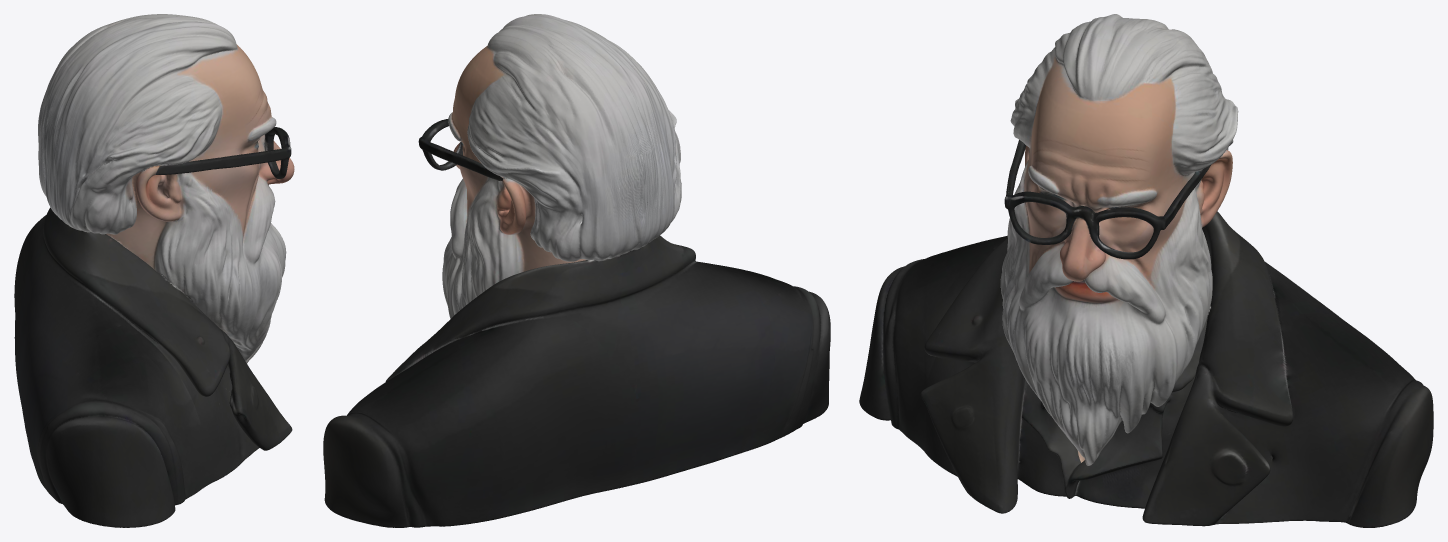
File: detailed_realistic_model_albusdumbledore_06.glb
3 renders of one model, left to right at view 1: azimuth 30°, elevation 25°; view 2: azimuth 150°, elevation 25°; view 3: azimuth 270°, elevation 25°, orthographic. The views are drawn at different scales.
Visible parts, largest first — view 1: tripo_node_ef23d51a-ea60-468d-8a79-ba1a73b600eb; view 2: tripo_node_ef23d51a-ea60-468d-8a79-ba1a73b600eb; view 3: tripo_node_ef23d51a-ea60-468d-8a79-ba1a73b600eb.
Boxes of the visible parts, x1,y1,x2,y2 form: tripo_node_ef23d51a-ea60-468d-8a79-ba1a73b600eb: (14, 14, 294, 527); tripo_node_ef23d51a-ea60-468d-8a79-ba1a73b600eb: (323, 14, 830, 527); tripo_node_ef23d51a-ea60-468d-8a79-ba1a73b600eb: (859, 14, 1433, 527).
Size of the model in its own units: 0.6799 by 0.8504 by 1.
1 material, 1 textured.
